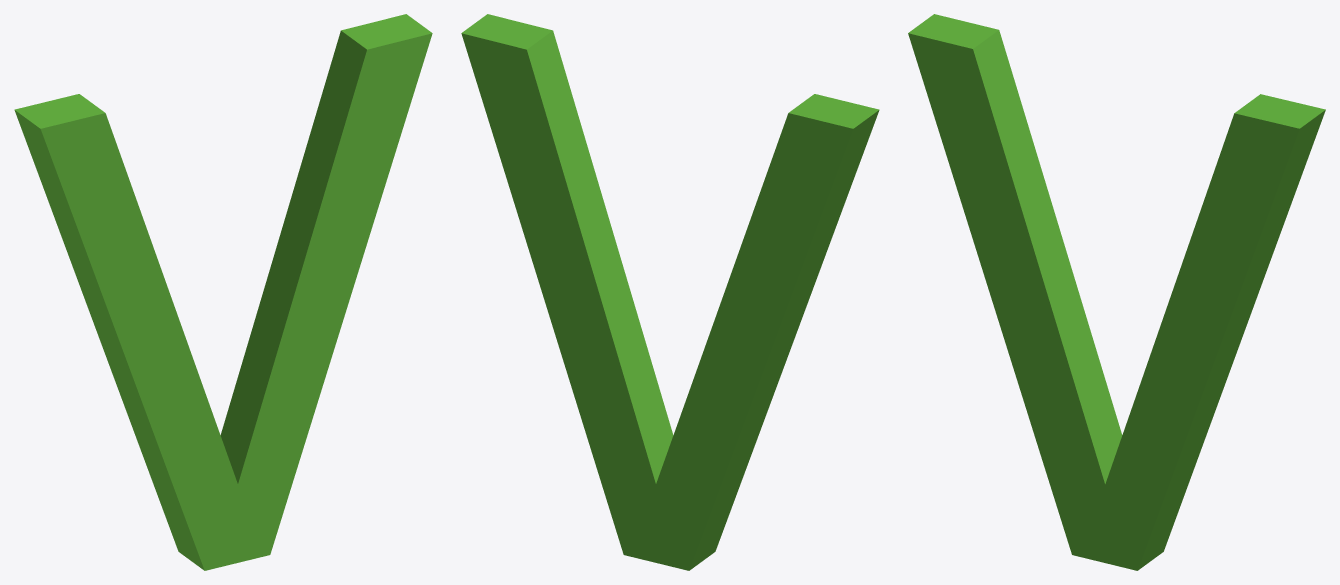
The model's file is letras.obj.
The picture shows the model from 3 angles, left to right: view 1: azimuth 30°, elevation 25°; view 2: azimuth 150°, elevation 25°; view 3: azimuth 330°, elevation 25°; orthographic projection.
Visible parts, largest first — view 1: V; view 2: V; view 3: V.
Boxes of the visible parts, x1,y1,x2,y2 form: V: [14, 14, 432, 570]; V: [461, 14, 879, 570]; V: [908, 14, 1325, 570].
Size of the model in its own units: 0.862 by 1.01 by 0.1.
